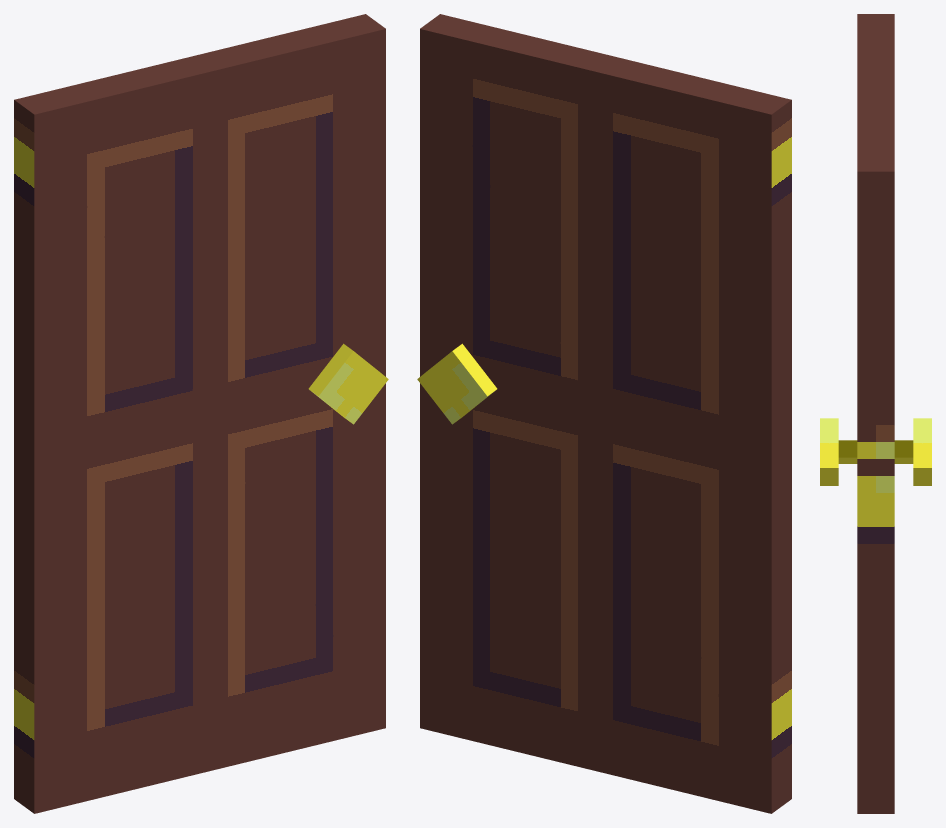
Rendered from Door Pixelart.fbx.
The picture shows the model from 3 angles, left to right: view 1: azimuth 30°, elevation 25°; view 2: azimuth 150°, elevation 25°; view 3: azimuth 270°, elevation 25°; orthographic projection. The views are drawn at different scales.
Parts seen in each view (by area): view 1: Door; view 2: Door; view 3: Door.
Boxes of the visible parts, x1=… form: Door: x1=14, y1=14, x2=388, y2=813; Door: x1=417, y1=14, x2=791, y2=813; Door: x1=820, y1=14, x2=931, y2=813.
Size of the model in its own units: 200 by 380 by 60.
Materials: 1 (1 with a texture image).
